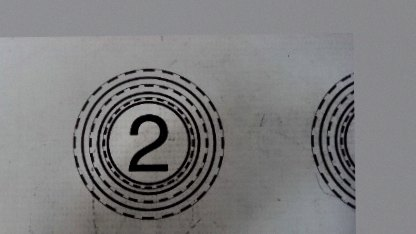2r: (67, 63, 226, 224)
